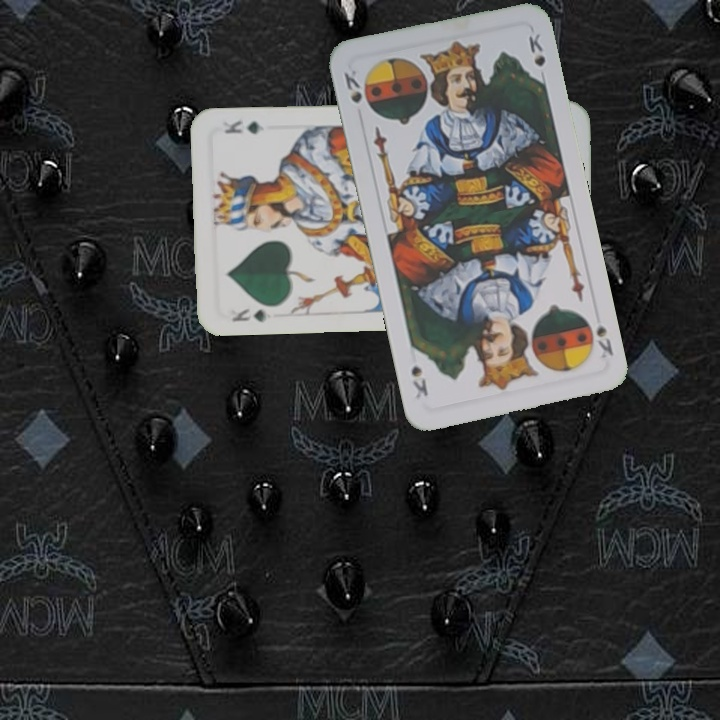GK: (227, 305, 268, 324)
SK: (580, 312, 616, 361), (340, 65, 365, 106)
